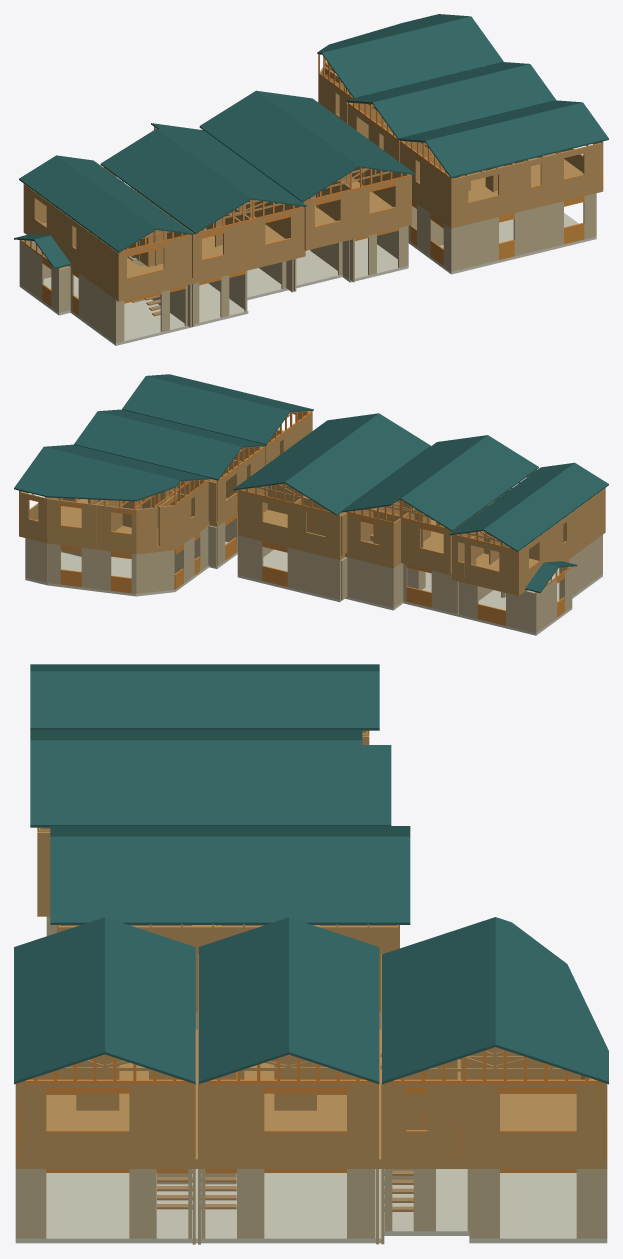
3 views of the same model, one above another, from view 1: azimuth 30°, elevation 25°; view 2: azimuth 150°, elevation 25°; view 3: azimuth 270°, elevation 25° (orthographic). The views are drawn at different scales.
Visible parts, largest first — view 1: ROOF-A3-0, ROOF-B4-0, ROOF-B5-0, ROOF-A1-0, ROOF-A2-0, GF-B-FLOOR, ROOF-B6-0, ROOF-B4-2, FF-B-FLOOR, ROOF-B5-2, ROOF-B6-2, GF-W016 (+35 smaller); view 2: ROOF-B4-0, ROOF-B5-0, ROOF-A1-2, ROOF-A2-2, ROOF-A3-2, ROOF-B6-0, ROOF-B4-2, ROOF-B5-2, FF-B-FLOOR, GF-B-FLOOR, GF-W085, ROOF-B6-2 (+46 smaller); view 3: ROOF-B4-2, ROOF-B5-2, GF-A-FLOOR, ROOF-B6-2, ROOF-A3-0, FF-A-FLOOR, ROOF-A1-0, ROOF-A1-2, ROOF-A2-0, ROOF-A2-2, ROOF-A3-2, FF-W027 (+28 smaller).
Boxes of the visible parts, <box> form: ROOF-A3-0: <box>322,16,503,98</box>; ROOF-B4-0: <box>199,91,358,202</box>; ROOF-B5-0: <box>100,129,251,234</box>; ROOF-A1-0: <box>425,102,608,178</box>; ROOF-A2-0: <box>372,64,556,139</box>; GF-B-FLOOR: <box>19,238,408,345</box>; ROOF-B6-0: <box>19,155,156,252</box>; ROOF-B4-2: <box>256,90,415,175</box>; FF-B-FLOOR: <box>23,178,411,301</box>; ROOF-B5-2: <box>151,123,306,206</box>; ROOF-B6-2: <box>57,155,193,234</box>; GF-W016: <box>513,201,563,256</box>; ROOF-B4-0: <box>285,413,430,515</box>; ROOF-B5-0: <box>401,435,538,531</box>; ROOF-A1-2: <box>122,376,289,445</box>; ROOF-A2-2: <box>74,411,241,480</box>; ROOF-A3-2: <box>14,447,180,501</box>; ROOF-B6-0: <box>483,463,608,551</box>; ROOF-B4-2: <box>233,413,378,490</box>; ROOF-B5-2: <box>342,435,487,512</box>; FF-B-FLOOR: <box>237,501,605,595</box>; GF-B-FLOOR: <box>237,549,602,635</box>; GF-W085: <box>287,547,338,599</box>; ROOF-B6-2: <box>449,462,574,535</box>; ROOF-B4-2: <box>50,836,410,924</box>; ROOF-B5-2: <box>30,740,391,827</box>; GF-A-FLOOR: <box>15,1169,607,1243</box>; ROOF-B6-2: <box>30,671,379,730</box>; ROOF-A3-0: <box>382,917,495,1084</box>; FF-A-FLOOR: <box>15,1029,607,1168</box>; ROOF-A1-0: <box>14,917,104,1084</box>; ROOF-A1-2: <box>105,917,195,1084</box>; ROOF-A2-0: <box>198,917,288,1083</box>; ROOF-A2-2: <box>289,917,379,1084</box>; ROOF-A3-2: <box>495,917,608,1084</box>; FF-W027: <box>202,1086,261,1157</box>.
Size of the model in its own units: 29.3 by 6.8 by 17.25.
